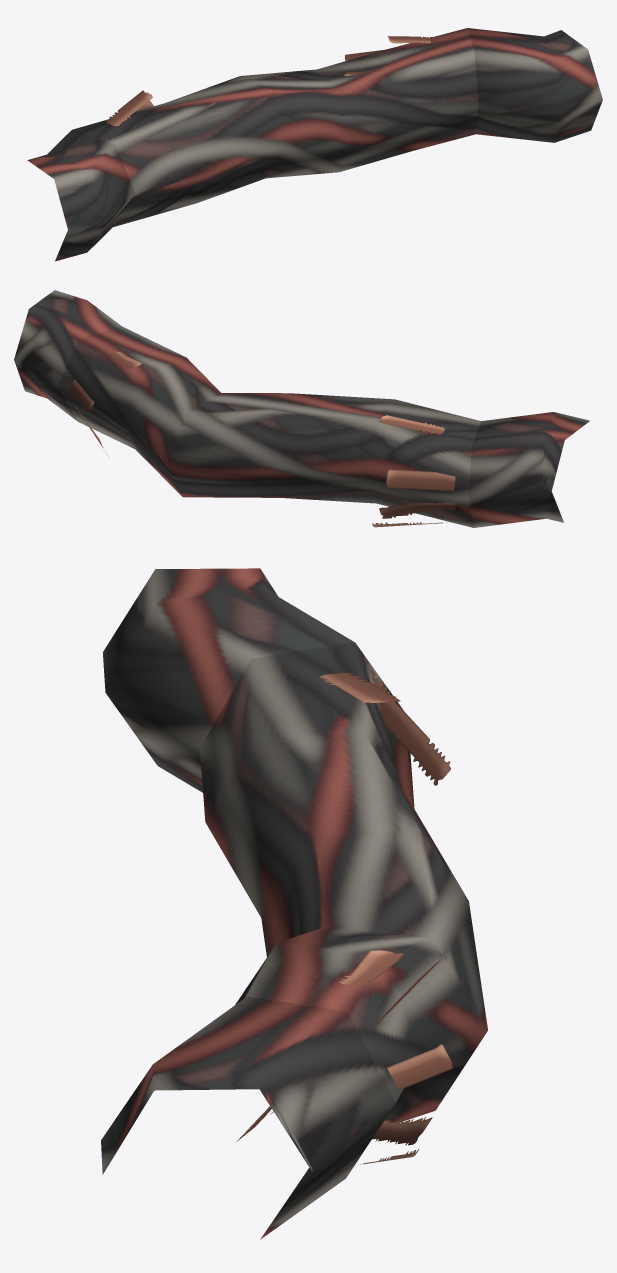
File: robotentacle_busted_2unit_02_wirebundle.glb
The picture shows the model from 3 angles, top to bottom: view 1: azimuth 30°, elevation 25°; view 2: azimuth 150°, elevation 25°; view 3: azimuth 270°, elevation 25°; orthographic projection. The views are drawn at different scales.
Visible parts, largest first — view 1: ghost_in_machine.robotentacle_busted_2unit_02_wirebundle-Mes (×3); view 2: ghost_in_machine.robotentacle_busted_2unit_02_wirebundle-Mes (×3); view 3: ghost_in_machine.robotentacle_busted_2unit_02_wirebundle-Mes (×3).
Boxes of the visible parts, left/top/right/bottom form: ghost_in_machine.robotentacle_busted_2unit_02_wirebundle-Mes (×3): left=27, top=28, right=602, bottom=261; ghost_in_machine.robotentacle_busted_2unit_02_wirebundle-Mes (×3): left=14, top=290, right=589, bottom=527; ghost_in_machine.robotentacle_busted_2unit_02_wirebundle-Mes (×3): left=101, top=568, right=487, bottom=1239.
Bounding box in the file's own units: 2.01 × 0.422 × 0.6716.
Materials: 2 (2 with a texture image).
